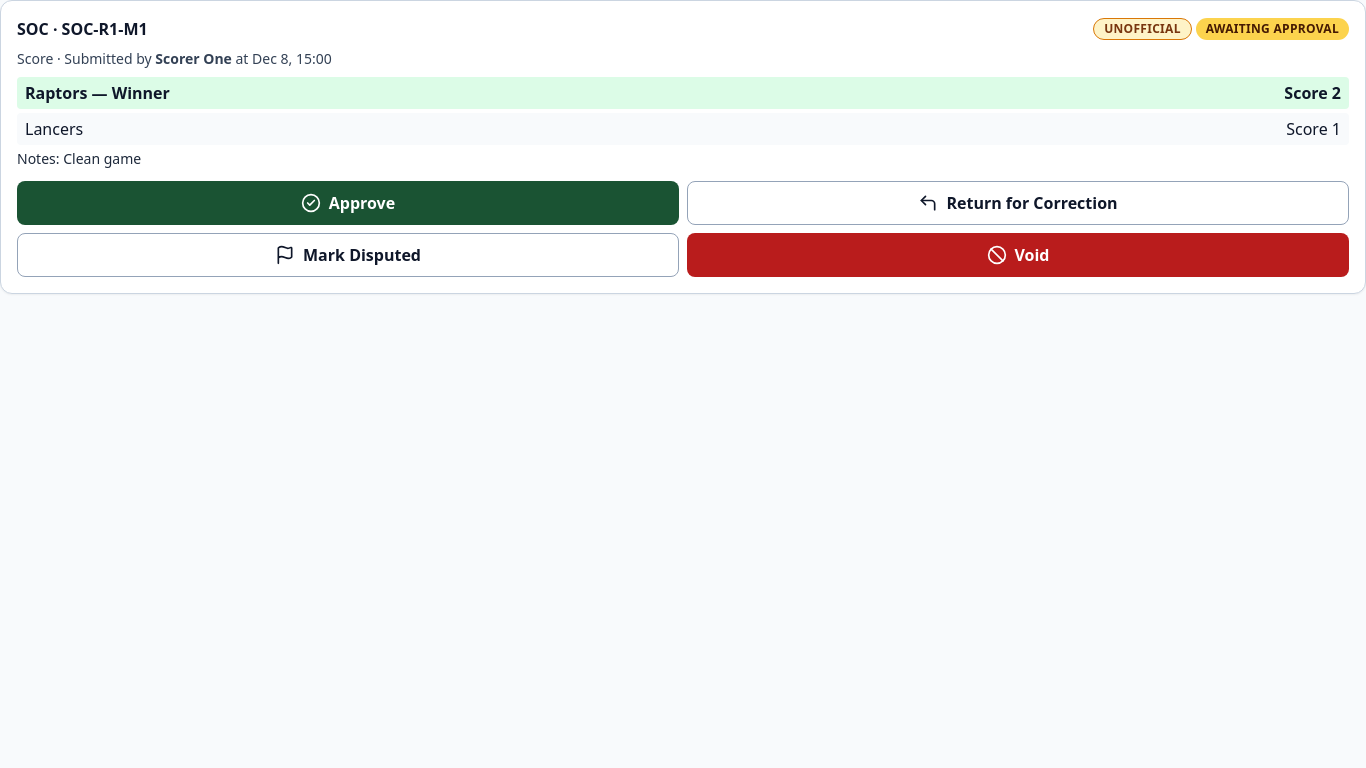
Test: ResultValidationCard › shows the server error inside the dialog
This screenshot has width=1366, height=768.
Click the button "Approve" at [348, 203], box [17,181,679,225]
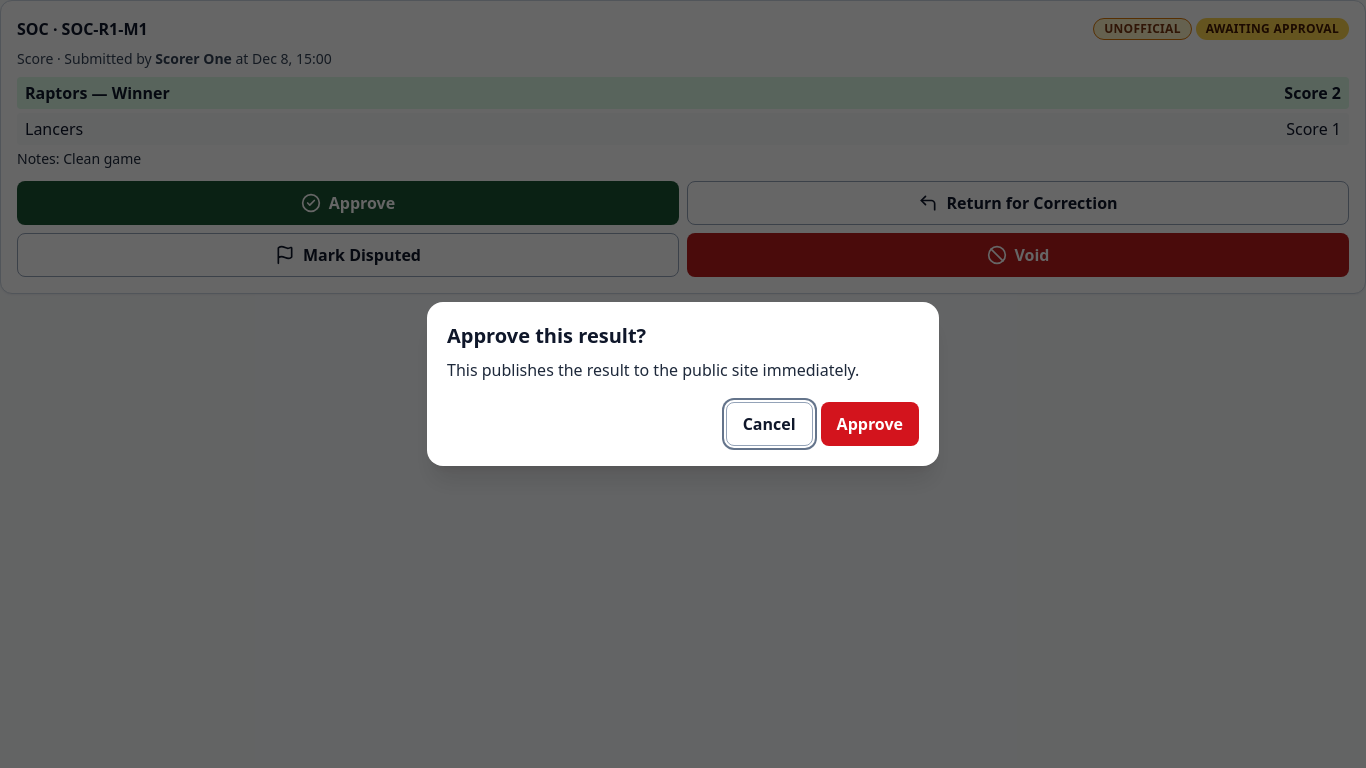
Click the button "Approve" at [870, 424], box [821,402,919,446]
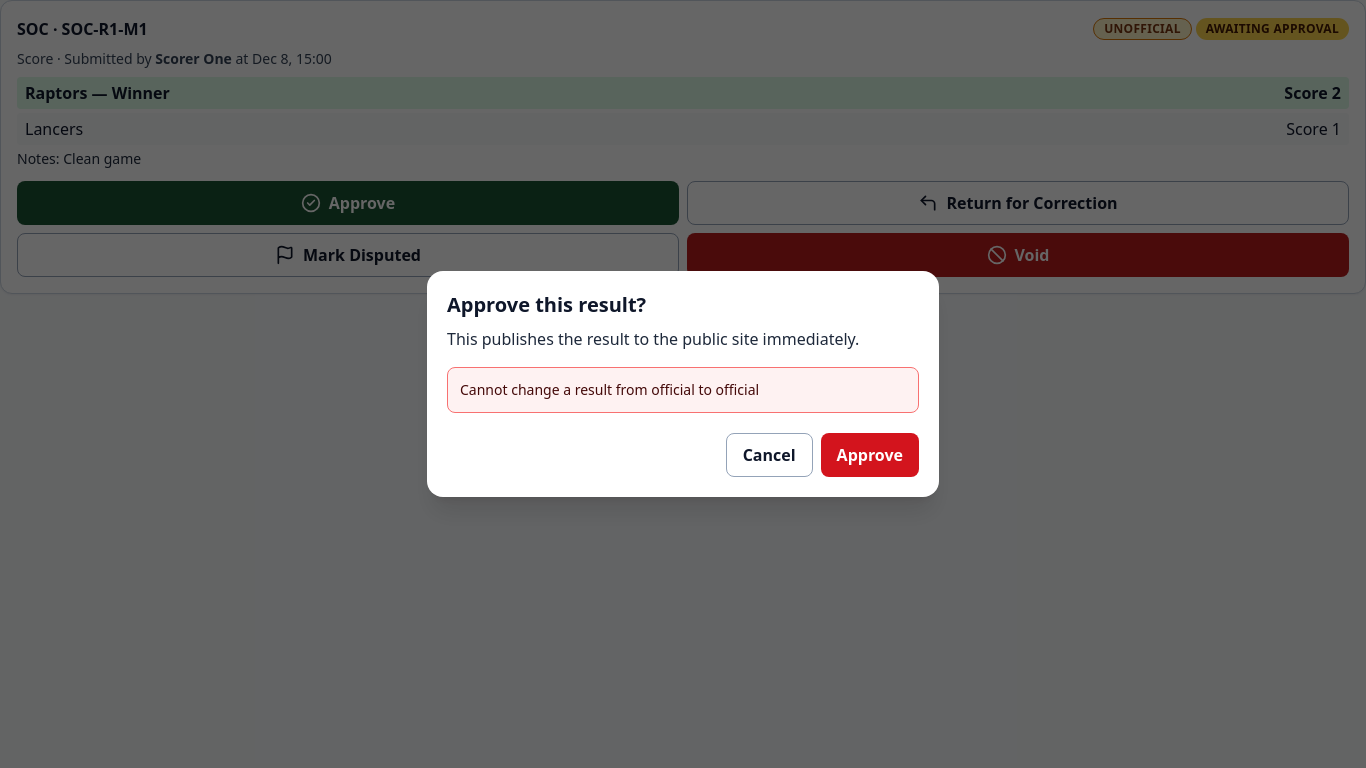
Result: the text "Cannot change a result from official to official" is shown at [460,380,759,399]
